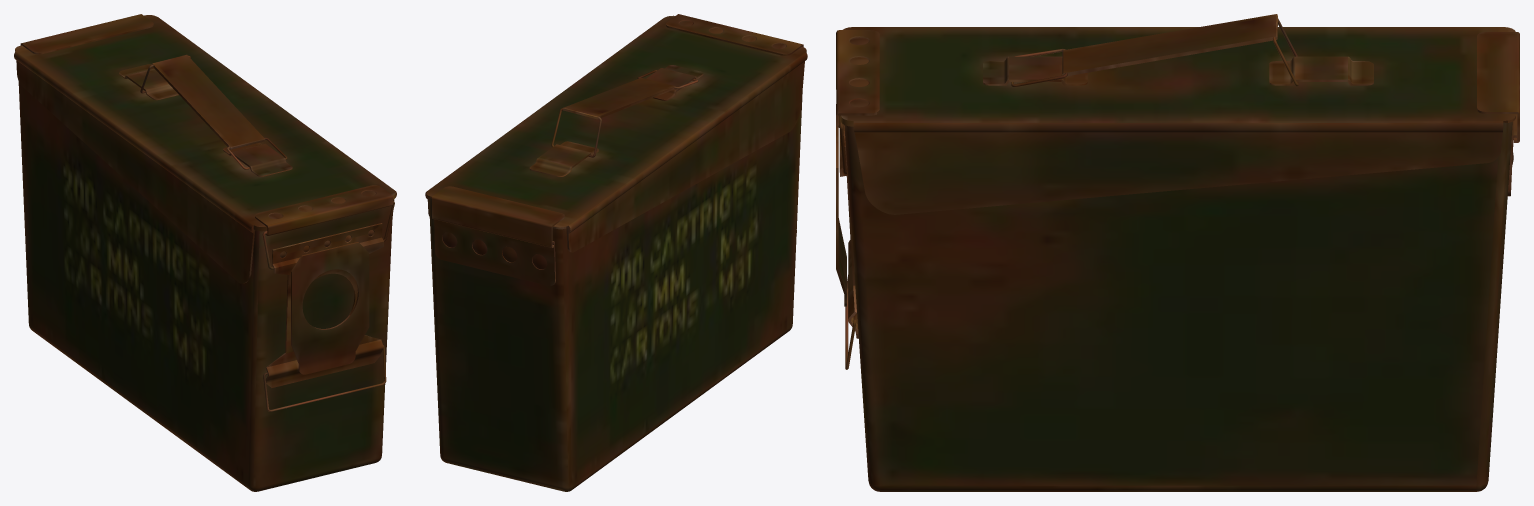
File: ammo_box.glb
3 renders of one model, left to right at view 1: azimuth 30°, elevation 25°; view 2: azimuth 150°, elevation 25°; view 3: azimuth 270°, elevation 25°, orthographic. The views are drawn at different scales.
Visible parts, largest first — view 1: ammo_box_handle_ring_b; view 2: ammo_box_handle_ring_b; view 3: ammo_box_handle_ring_b.
Boxes of the visible parts, bbox=[...] form: ammo_box_handle_ring_b: bbox=[14, 14, 396, 491]; ammo_box_handle_ring_b: bbox=[425, 14, 807, 491]; ammo_box_handle_ring_b: bbox=[836, 14, 1519, 491].
Bounding box in the file's own units: 0.0866 × 0.1775 × 0.2579.
1 material, 1 textured.
